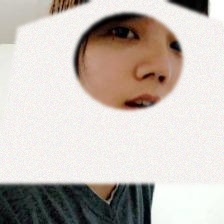Mukena: (16, 0, 224, 184)
